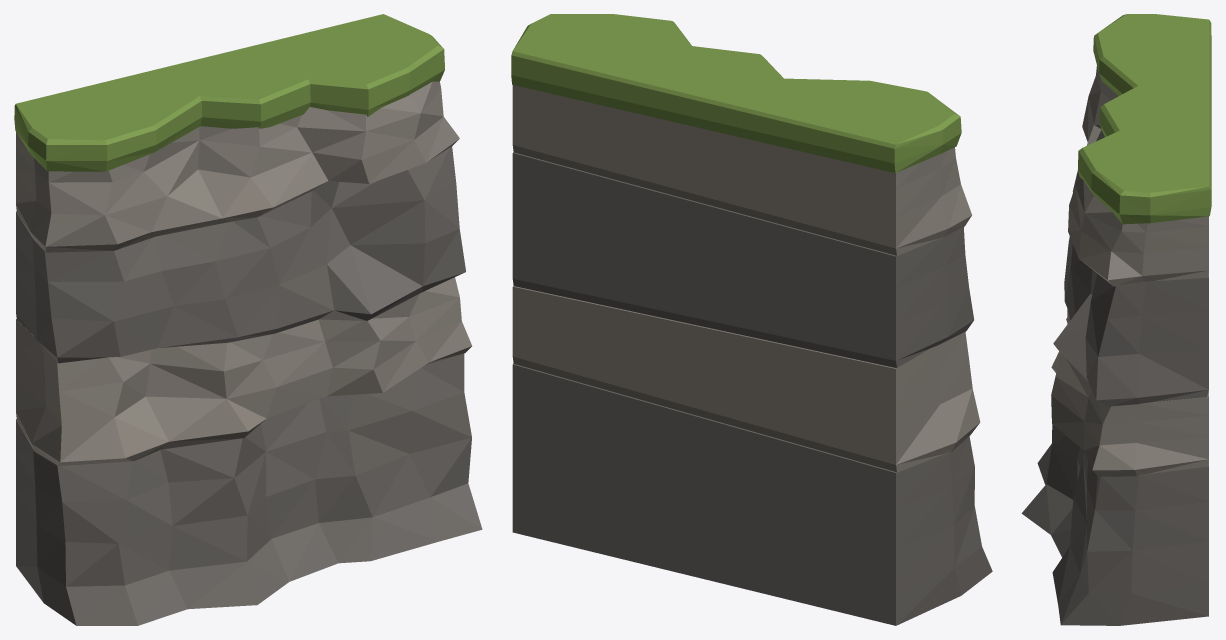
File: ENV_Cliff_A.fbx
3 renders of one model, left to right at view 1: azimuth 30°, elevation 25°; view 2: azimuth 150°, elevation 25°; view 3: azimuth 270°, elevation 25°, orthographic. The views are drawn at different scales.
Visible parts, largest first — view 1: Rock, Strata, Grass; view 2: Rock, Strata, Grass; view 3: Rock, Grass, Strata.
Part boxes in pixels (box(x1,y1,x2,y2)): Rock: box(16, 146, 482, 625); Strata: box(16, 81, 471, 465); Grass: box(14, 14, 444, 171); Rock: box(512, 152, 992, 625); Strata: box(512, 85, 980, 472); Grass: box(511, 14, 961, 173); Rock: box(1021, 236, 1208, 625); Grass: box(1078, 14, 1211, 224); Strata: box(1051, 66, 1208, 476).
Size of the model in its own units: 33.9 by 36 by 14.42.
